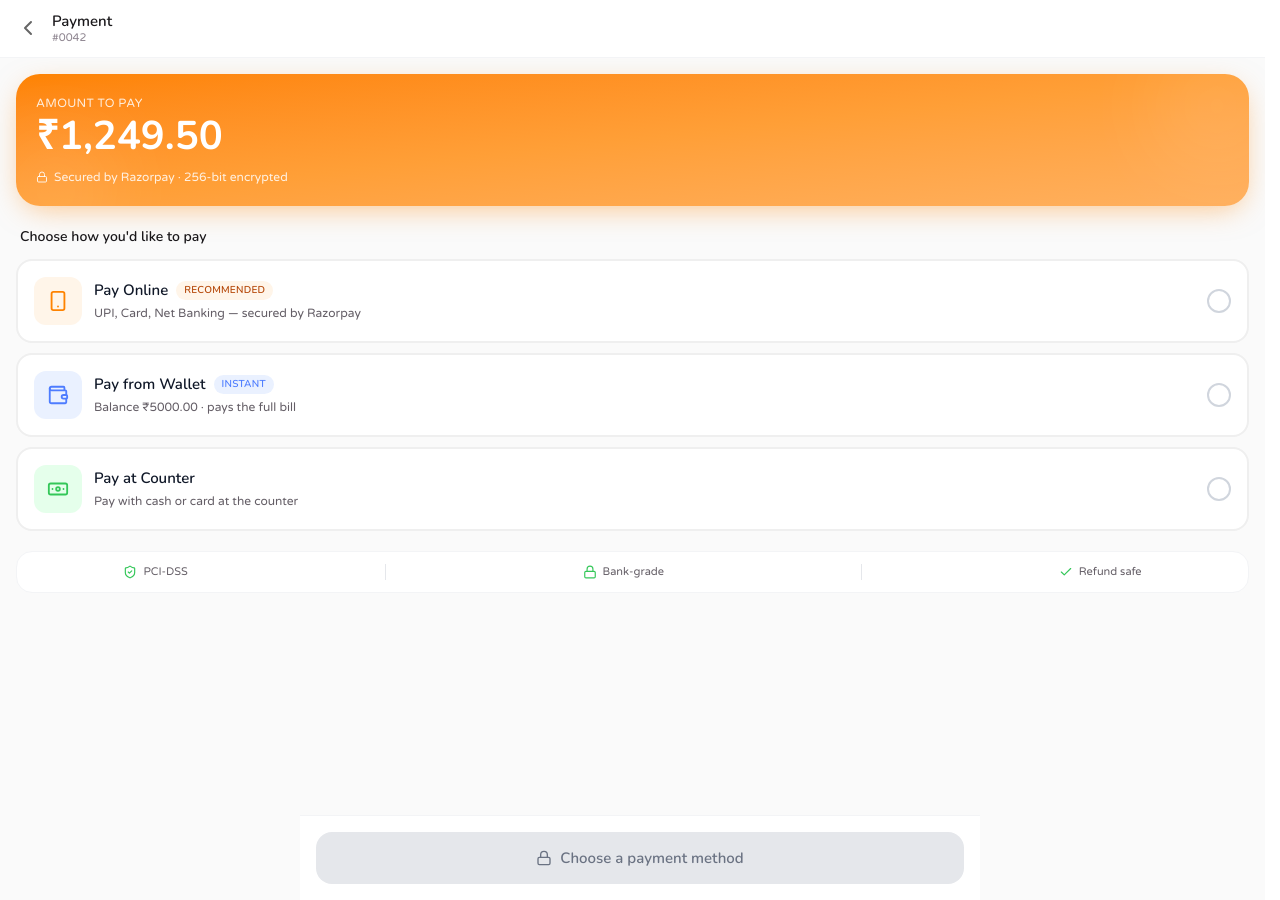
Payment — pay at counter › "Change payment method" closes the waiting overlay without settling anything
Click the button "Pay at Counter Pay with cash or card at the counter".
click(58, 488)  # box x1=16 y1=446 x2=1249 y2=530
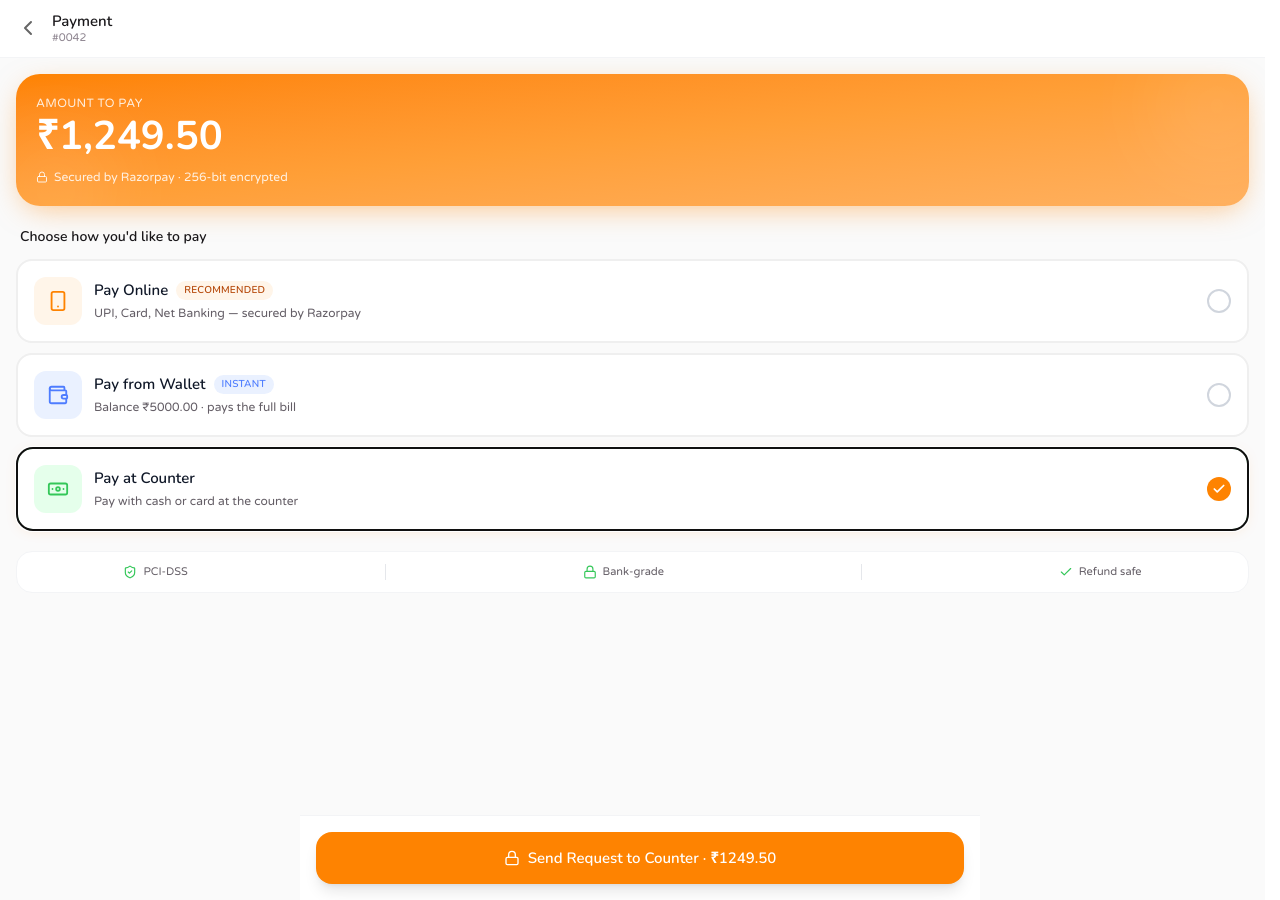
Click the button "Send Request to Counter · ₹1249.50".
click(640, 858)  # box x1=316 y1=832 x2=964 y2=884
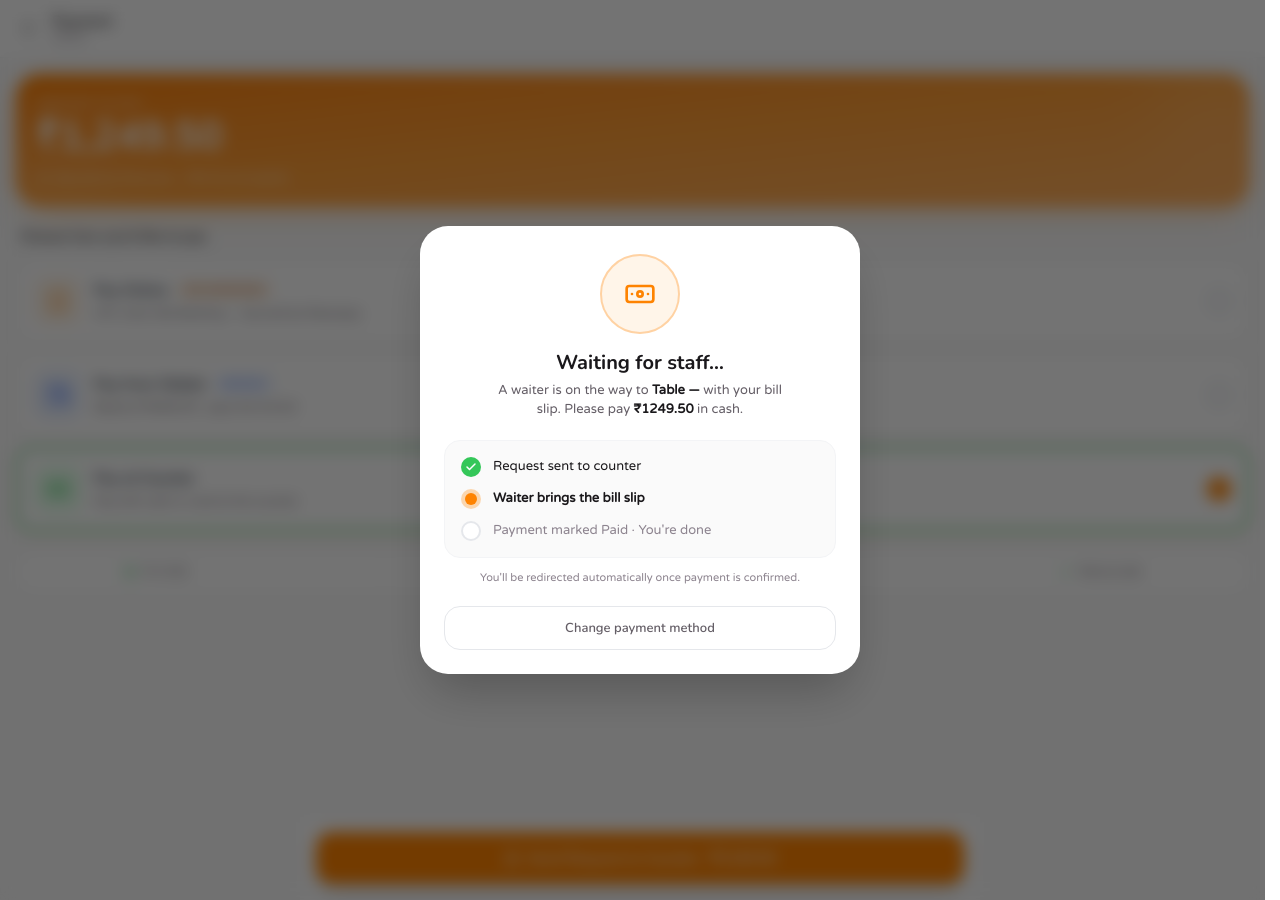
Click the button "Change payment method".
click(640, 628)  # box x1=444 y1=606 x2=836 y2=650
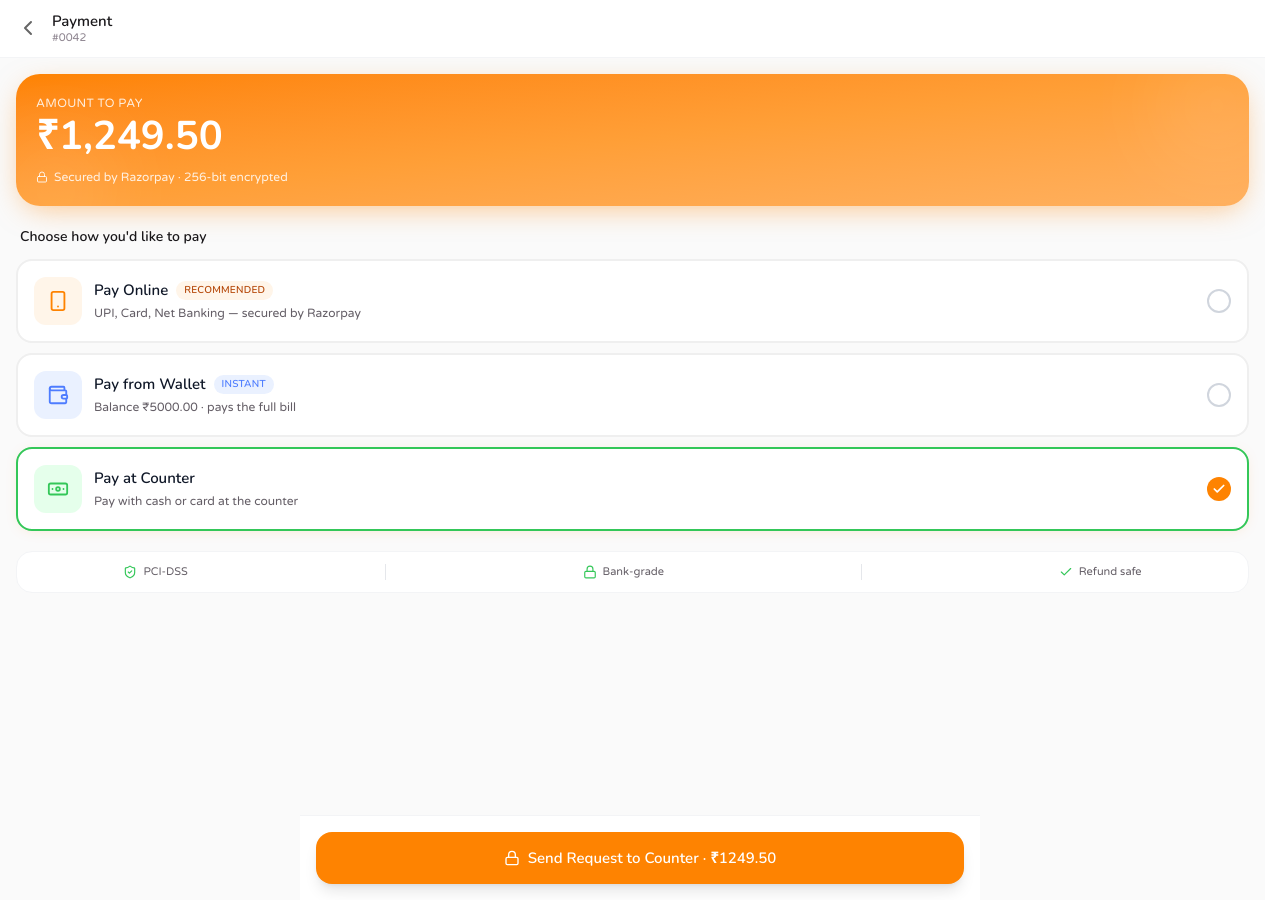
Now the heading "Waiting for staff…" is gone
